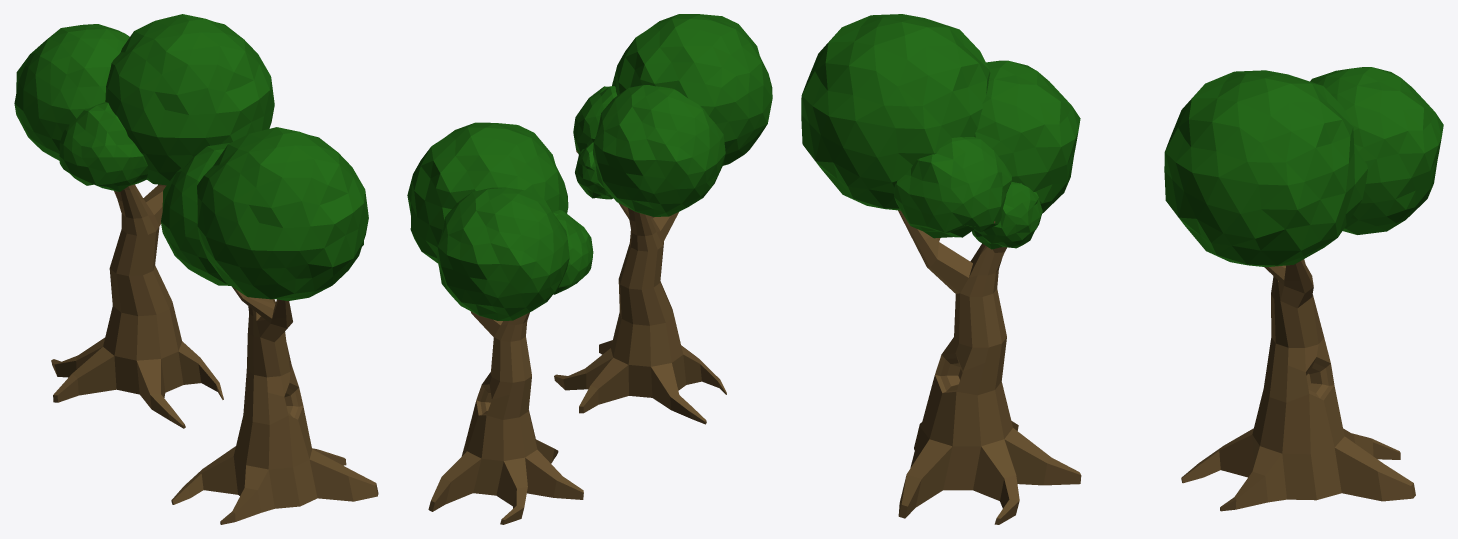
File: boom_1.fbx
3 renders of one model, left to right at view 1: azimuth 30°, elevation 25°; view 2: azimuth 150°, elevation 25°; view 3: azimuth 270°, elevation 25°, orthographic. The views are drawn at different scales.
Parts seen in each view (by area): view 1: Icosphere, Icosphere.007, Circle, Circle.001, Icosphere.006, Icosphere.002, Icosphere.003; view 2: Icosphere.006, Circle, Icosphere.003, Circle.001, Icosphere, Icosphere.007, Icosphere.002, Icosphere.004, Icosphere.005; view 3: Icosphere.007, Icosphere, Circle, Circle.001, Icosphere.006, Icosphere.003, Icosphere.004, Icosphere.005.
Part boxes in pixels (left/top/right/bottom): Icosphere: left=197, top=127, right=368, bottom=300; Icosphere.007: left=105, top=14, right=274, bottom=185; Circle: left=171, top=287, right=378, bottom=524; Circle.001: left=51, top=184, right=223, bottom=428; Icosphere.006: left=14, top=24, right=129, bottom=160; Icosphere.002: left=59, top=102, right=147, bottom=191; Icosphere.003: left=161, top=143, right=230, bottom=285; Icosphere.006: left=437, top=187, right=569, bottom=320; Circle: left=554, top=150, right=726, bottom=424; Icosphere.003: left=593, top=85, right=725, bottom=216; Circle.001: left=428, top=311, right=583, bottom=524; Icosphere: left=612, top=14, right=772, bottom=165; Icosphere.007: left=407, top=122, right=568, bottom=263; Icosphere.002: left=553, top=210, right=593, bottom=294; Icosphere.004: left=573, top=86, right=617, bottom=154; Icosphere.005: left=575, top=142, right=613, bottom=199; Icosphere.007: left=1164, top=70, right=1367, bottom=267; Icosphere: left=801, top=14, right=990, bottom=210; Circle: left=898, top=210, right=1081, bottom=524; Circle.001: left=1181, top=259, right=1415, bottom=511; Icosphere.006: left=1310, top=67, right=1443, bottom=234; Icosphere.003: left=974, top=60, right=1080, bottom=213; Icosphere.004: left=893, top=137, right=1011, bottom=238; Icosphere.005: left=972, top=181, right=1042, bottom=249.
Size of the model in its own units: 512 by 896 by 1164.
